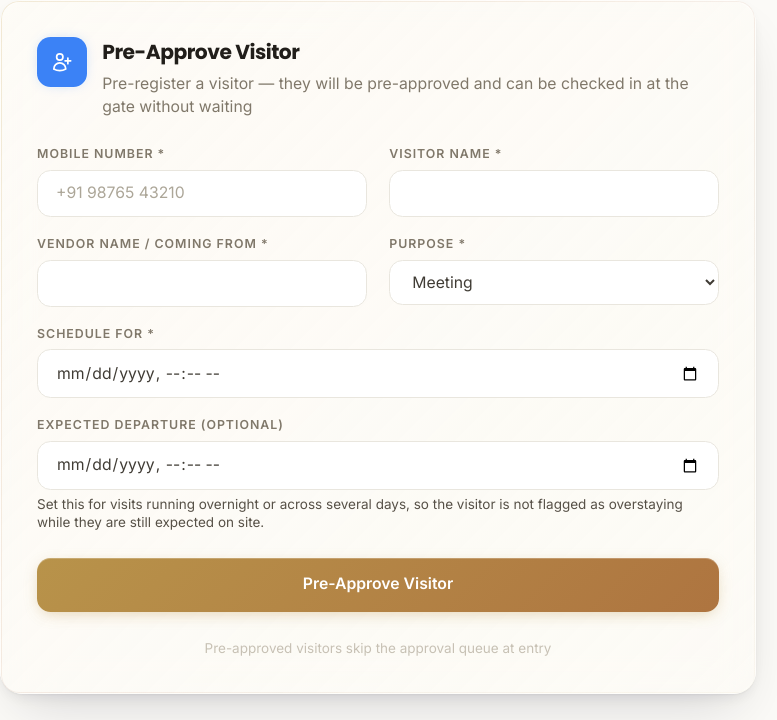
Test case: PreApproveForm validation › shows session expired error when no session
Type "9876543210" into the field with placeholder "+91 98765 43210" at point(202, 193), box [37,170,367,217]
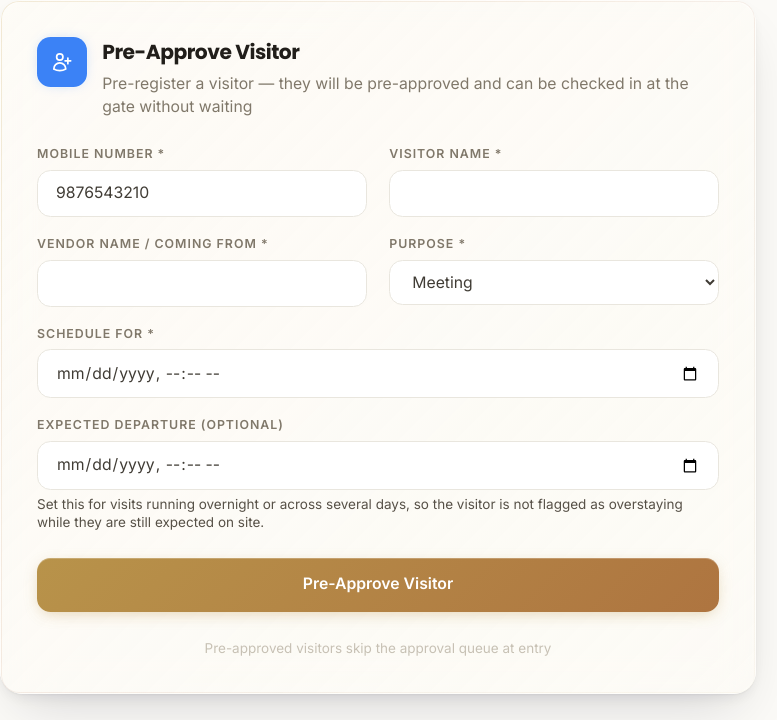
Type "Test Visitor" into the field below "Visitor Name *" at point(554, 193), box [389,170,719,217]
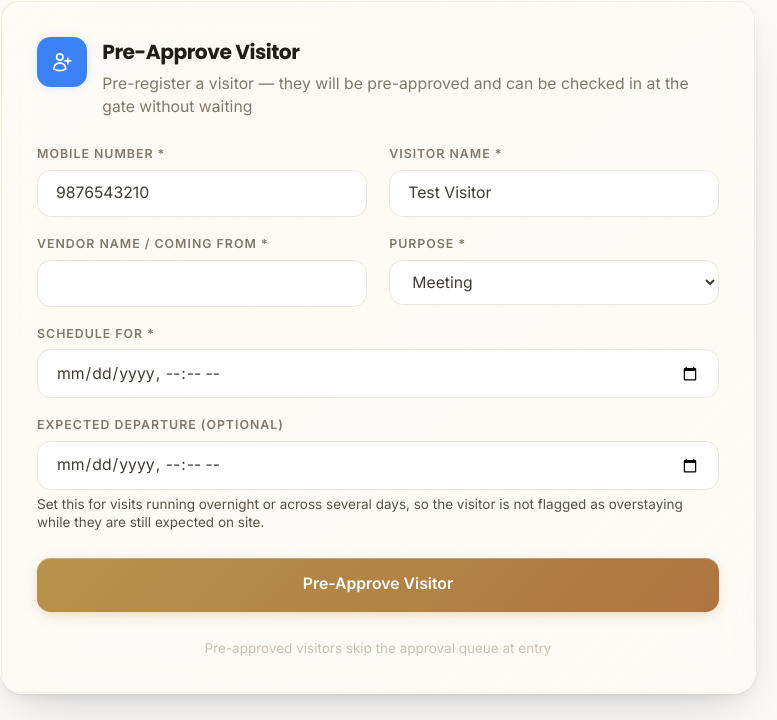
Type "Test Corp" into the field below "Vendor Name / Coming from *" at point(202, 283), box [37,260,367,306]
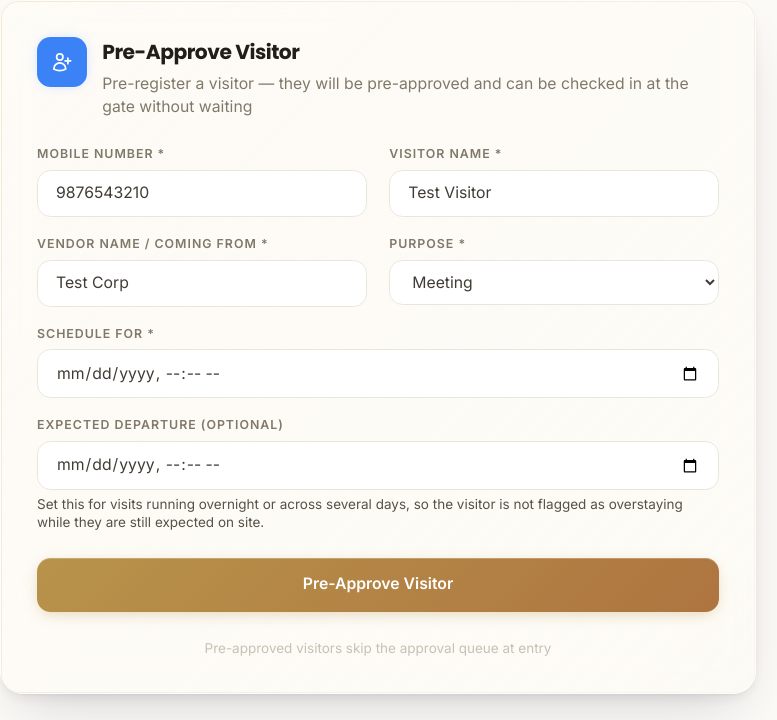
Type "2026-08-05T10:00" into the field labelled "Schedule for *" at point(378, 374), box [37,349,719,398]
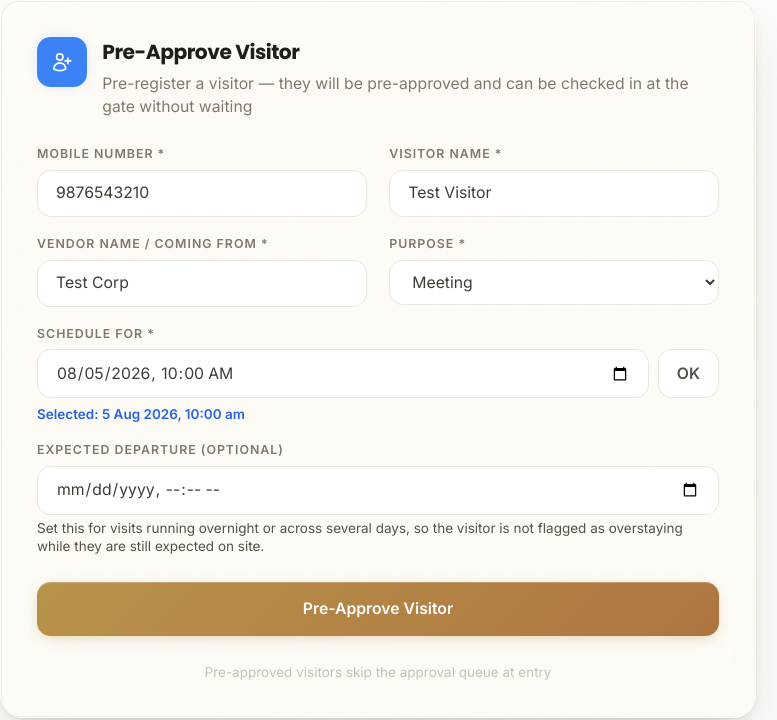
Click the button "Pre-Approve Visitor" at point(378, 609), box [37,582,719,636]
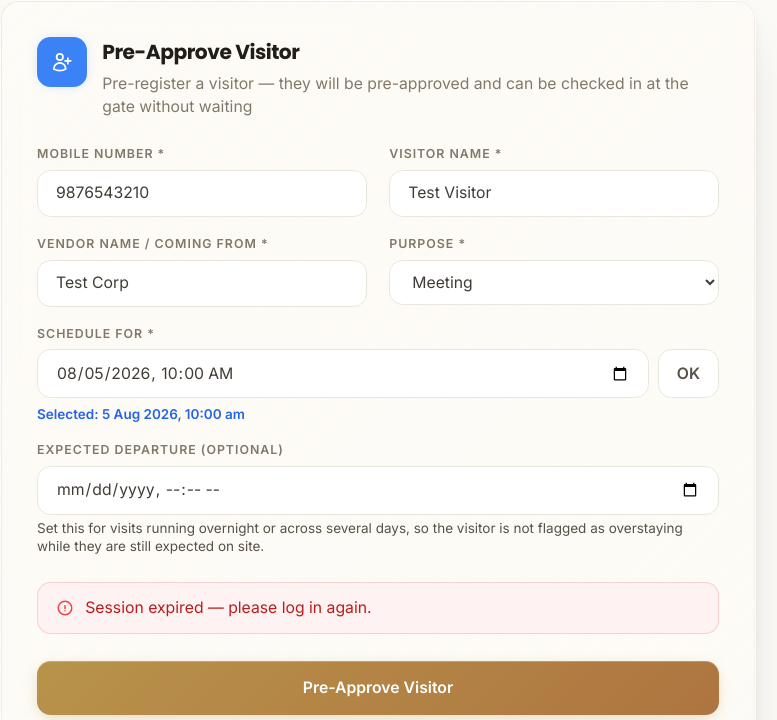
Expected: the text "Session expired — please log in again." is shown, [37,582,719,634]
